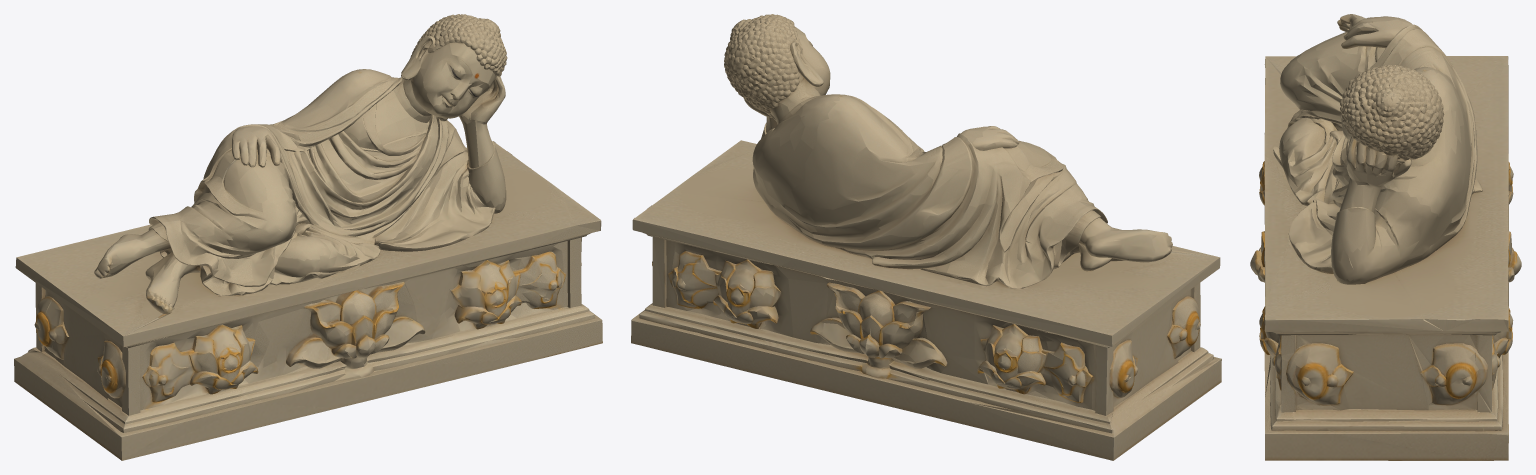
The model's file is phat-nam.glb.
3 views of the same model, side by side, from view 1: azimuth 30°, elevation 25°; view 2: azimuth 150°, elevation 25°; view 3: azimuth 270°, elevation 25° (orthographic). The views are drawn at different scales.
Size of the model in its own units: 1.9 by 1.16 by 0.8226.
Materials: 1 (1 with a texture image).
